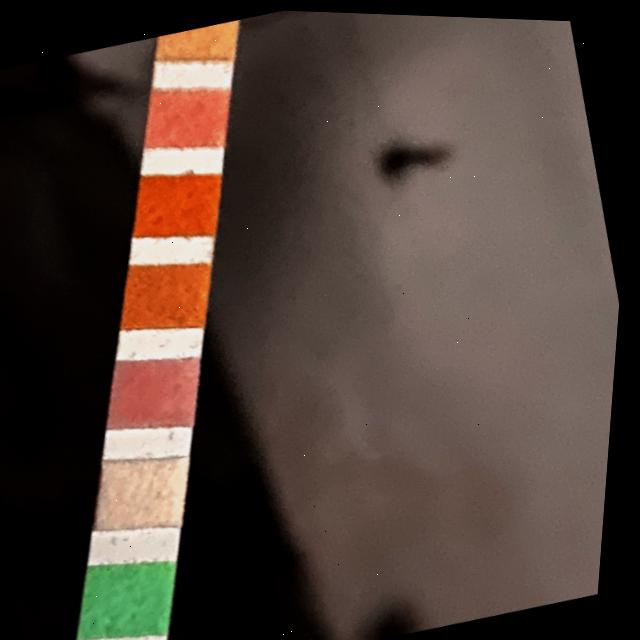Bilirubin: (106, 451, 197, 532)
Blood: (140, 167, 227, 240)
Glucose: (92, 559, 183, 637)
Ketone: (116, 352, 207, 429)
Protein: (164, 16, 240, 64)
SpGravity: (129, 259, 215, 329)
pH: (150, 84, 231, 150)
